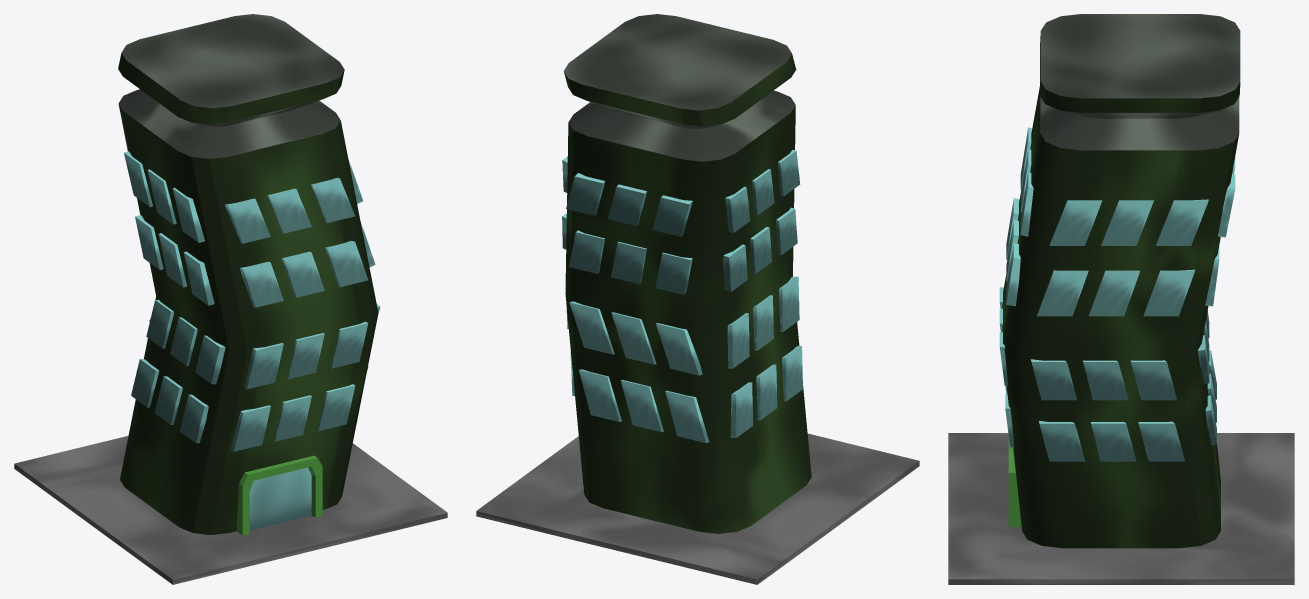
The model's file is building_3.fbx.
3 renders of one model, left to right at view 1: azimuth 30°, elevation 25°; view 2: azimuth 150°, elevation 25°; view 3: azimuth 270°, elevation 25°, orthographic. The views are drawn at different scales.
Parts seen in each view (by area): view 1: Building3_LOD0; view 2: Building3_LOD0; view 3: Building3_LOD0.
Part boxes in pixels (box(x1,y1,x2,y2)): Building3_LOD0: box(14, 14, 447, 584); Building3_LOD0: box(476, 14, 919, 584); Building3_LOD0: box(948, 14, 1294, 584).
Size of what is drawn, in the model's own units: 600 by 882 by 600.
